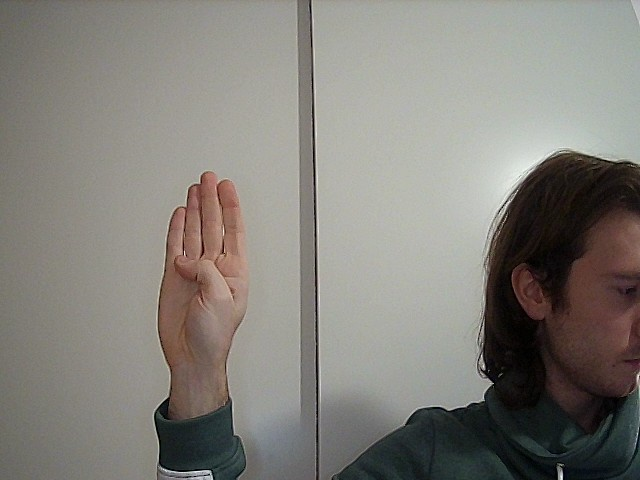b: (134, 167, 286, 381)
